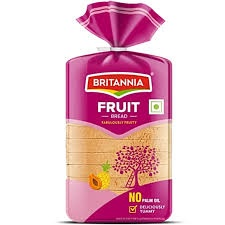Britannaia fruitBread: (62, 2, 177, 223)
